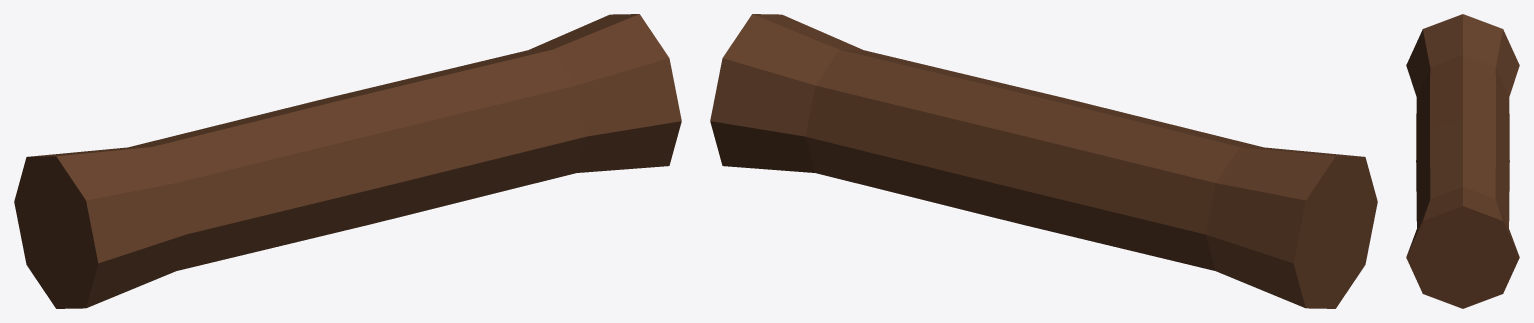
File: wood_piece.fbx
3 renders of one model, left to right at view 1: azimuth 30°, elevation 25°; view 2: azimuth 150°, elevation 25°; view 3: azimuth 270°, elevation 25°, orthographic. The views are drawn at different scales.
Parts seen in each view (by area): view 1: Cylinder; view 2: Cylinder; view 3: Cylinder.
Part boxes in pixels (x1,y1,x2,y2): Cylinder: (14,14,681,308); Cylinder: (710,14,1377,308); Cylinder: (1406,14,1519,308).
Size of the model in its own units: 800 by 200 by 200.
